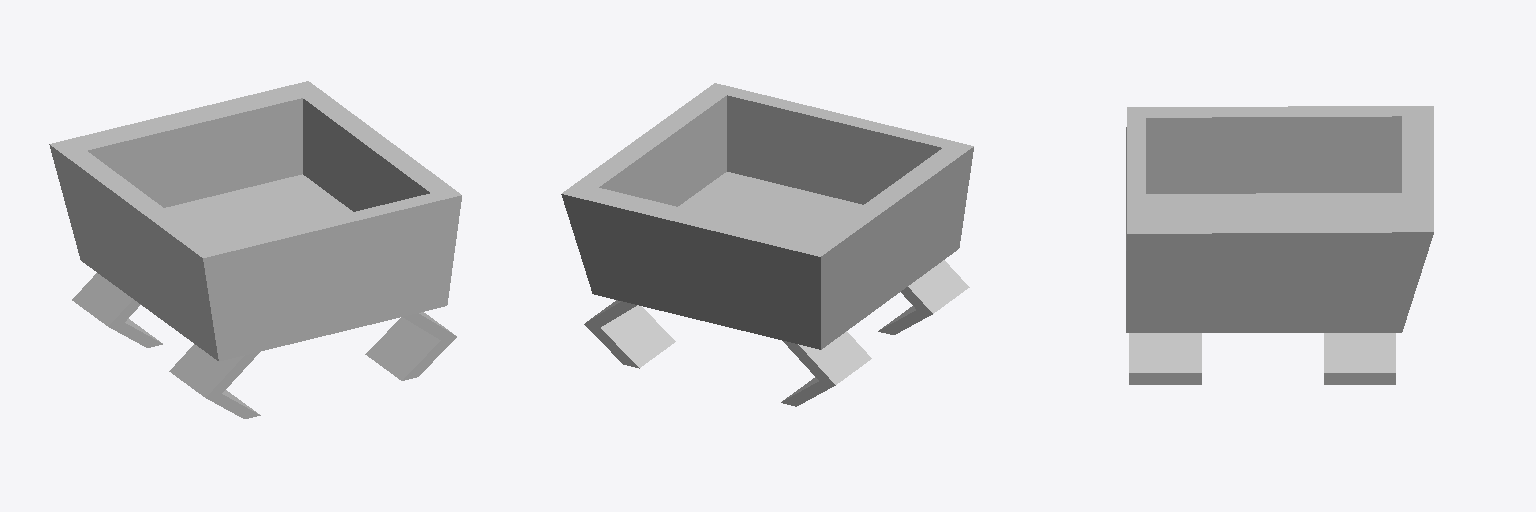
File: coaster_connect.obj
3 views of the same model, side by side, from view 1: azimuth 30°, elevation 25°; view 2: azimuth 150°, elevation 25°; view 3: azimuth 270°, elevation 25° (orthographic).
Parts seen in each view (by area): view 1: Cube.001; view 2: Cube.001; view 3: Cube.001.
Part boxes in pixels (bbox=[...]): Cube.001: bbox=[49, 81, 461, 418]; Cube.001: bbox=[561, 83, 973, 406]; Cube.001: bbox=[1126, 106, 1433, 384].
Bounding box in the file's own units: 1.36 × 0.8731 × 1.4.